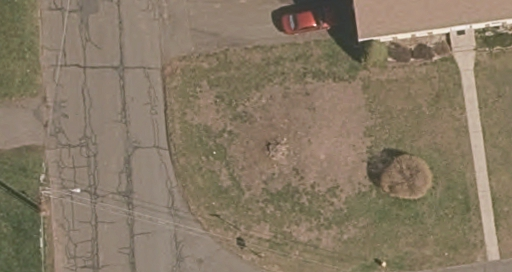DT: (35, 173, 55, 204)
